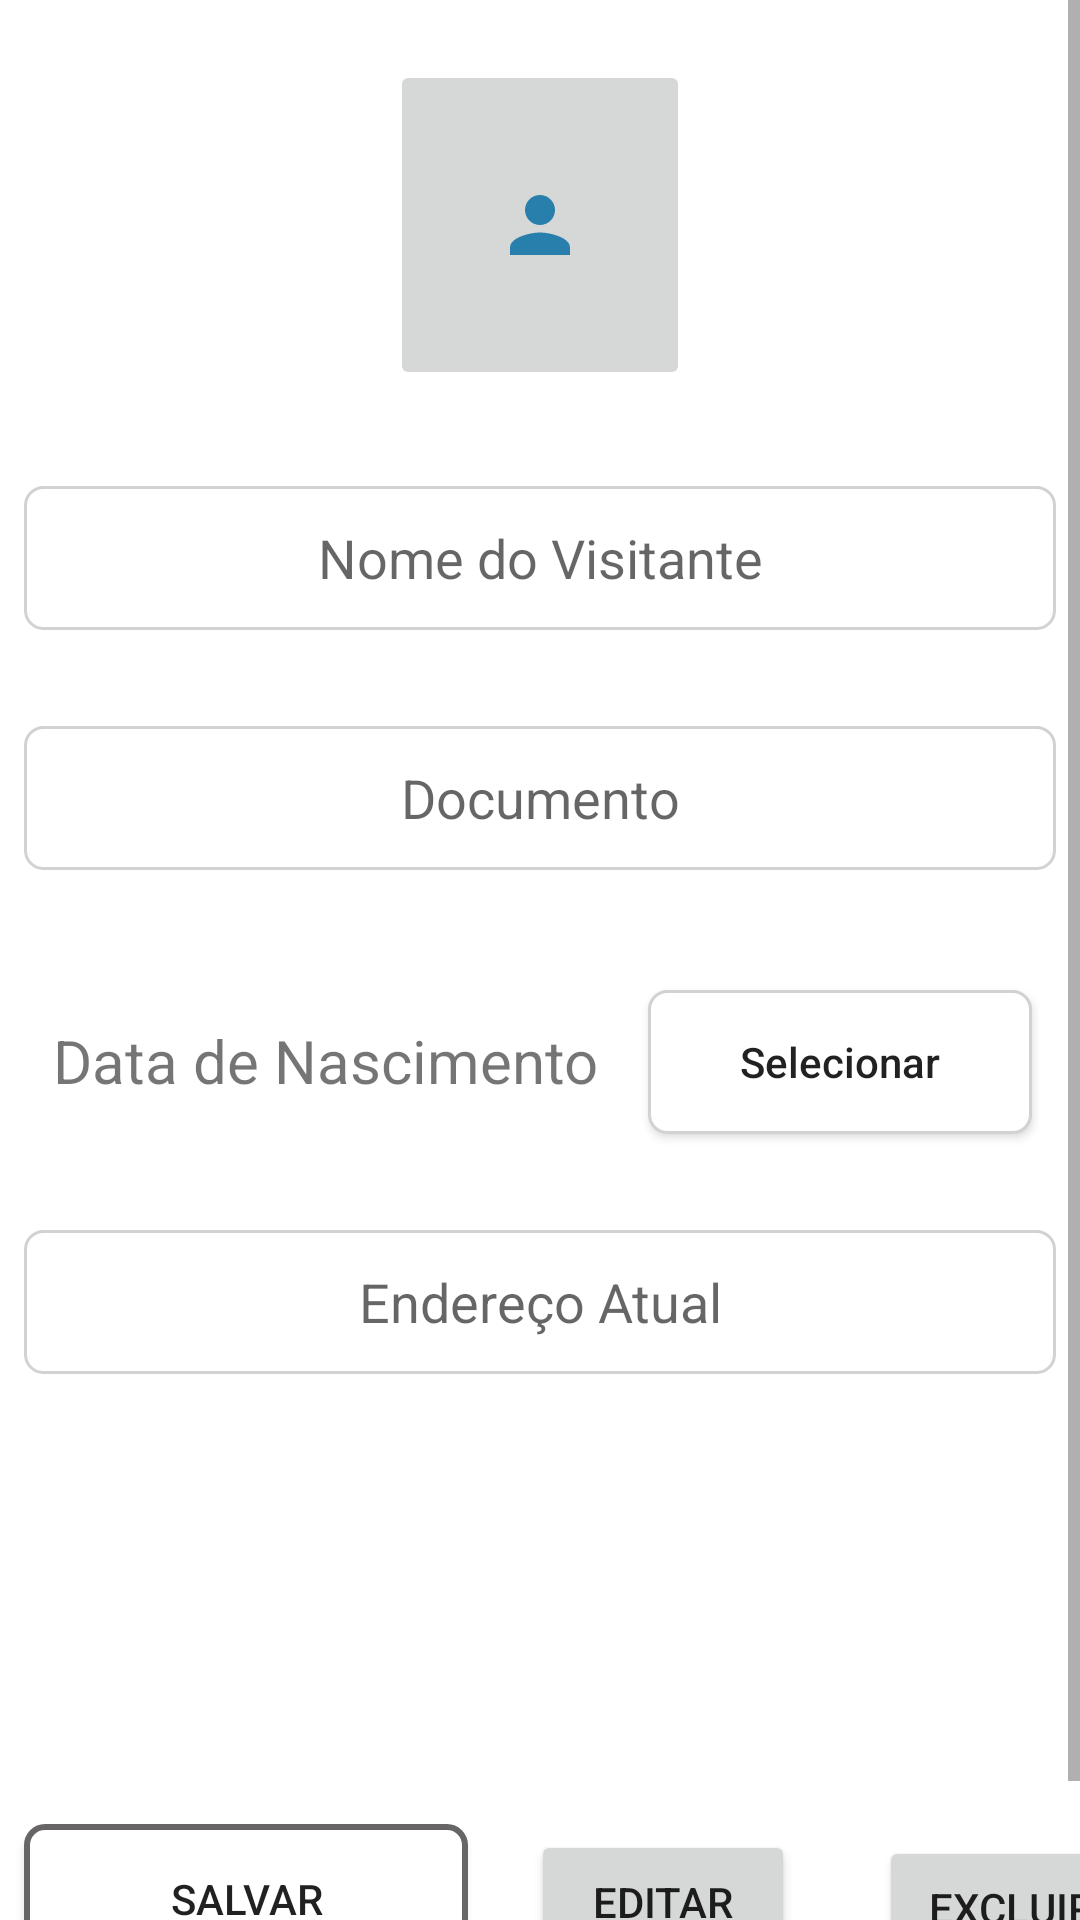

Point at icon controls on the screen. Image size 1080x1920, points as point (x, y).
person: point (540, 225)
